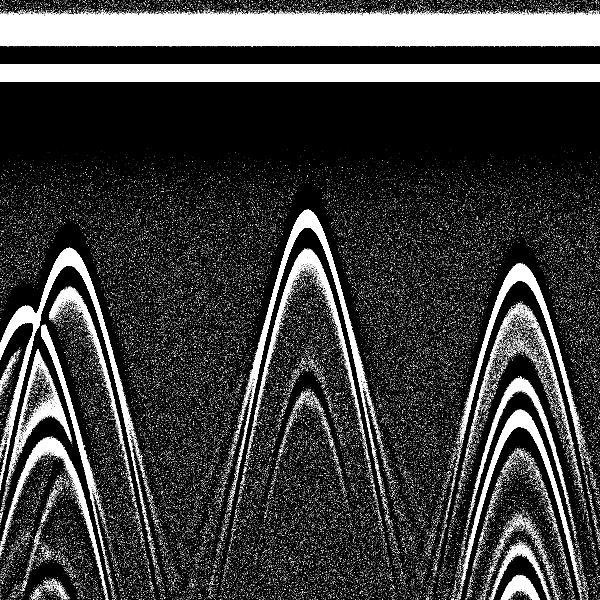pipe: (473, 7, 565, 340), (28, 3, 114, 325), (260, 8, 354, 292), (1, 2, 70, 371)
